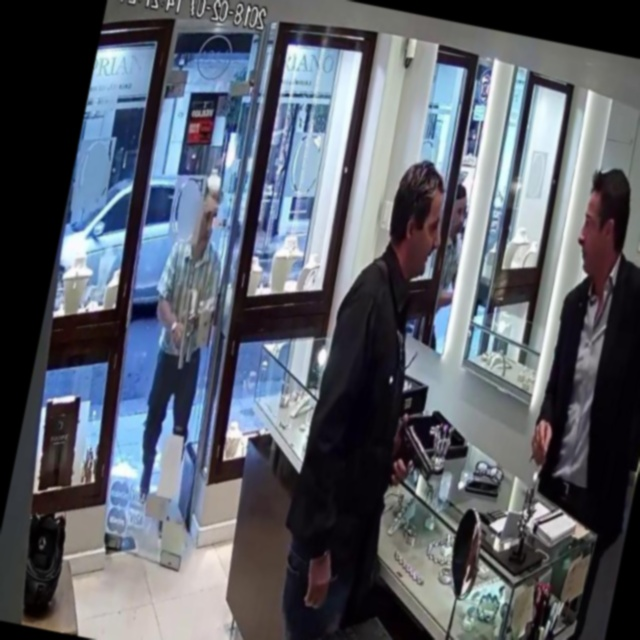gun: (372, 402, 456, 512)
